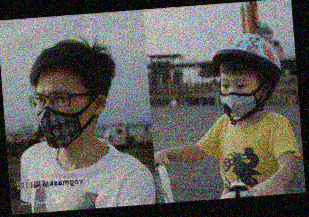with_mask: (34, 85, 94, 150), (219, 76, 260, 119)
